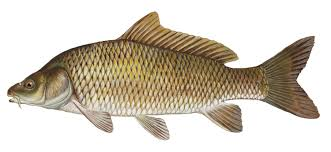carp: (7, 10, 320, 143)
